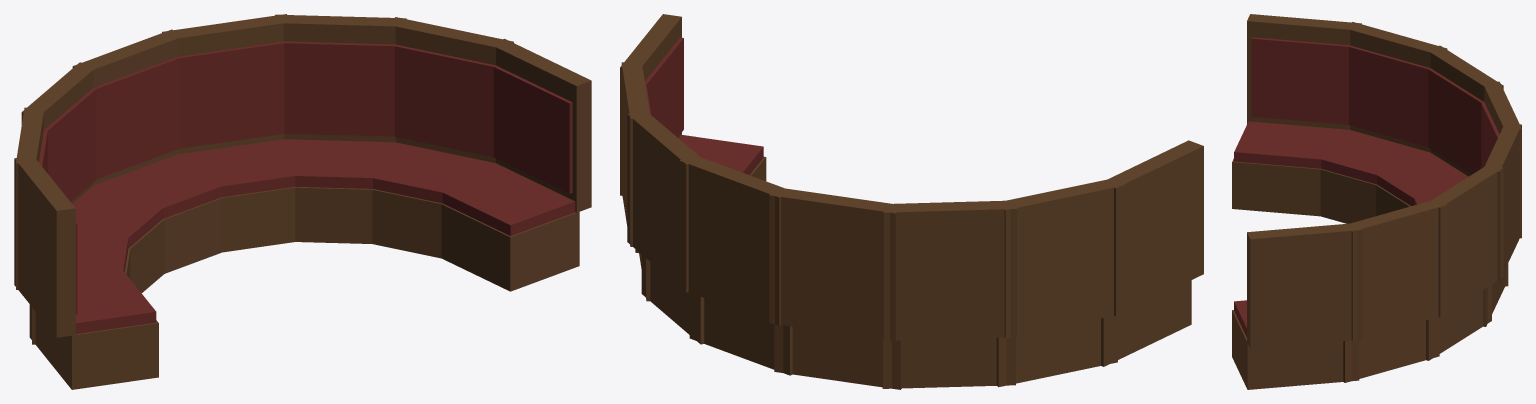
Rendered from cantina_booth_seat.glb.
3 views of the same model, side by side, from view 1: azimuth 30°, elevation 25°; view 2: azimuth 150°, elevation 25°; view 3: azimuth 270°, elevation 25° (orthographic). The views are drawn at different scales.
Parts seen in each view (by area): view 1: sw5e_int_cantina_booth_seat; view 2: sw5e_int_cantina_booth_seat; view 3: sw5e_int_cantina_booth_seat.
Boxes of the visible parts, <box> form: sw5e_int_cantina_booth_seat: <box>14,14,591,389</box>; sw5e_int_cantina_booth_seat: <box>620,14,1203,389</box>; sw5e_int_cantina_booth_seat: <box>1232,14,1521,389</box>.
Bounding box in the file's own units: 3.09 × 1 × 1.68.
